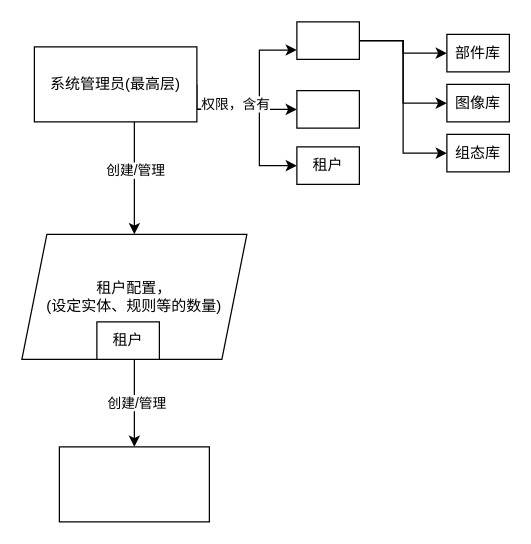
Image size: 531x544. Some labels were removed from this diagram. Here are the shapes that lost their labels. From the top down, the centre of each, then its label:
the point at 327,40: 资源
the point at 327,108: 租户配置
the point at 133,484: 客户(最低层)
